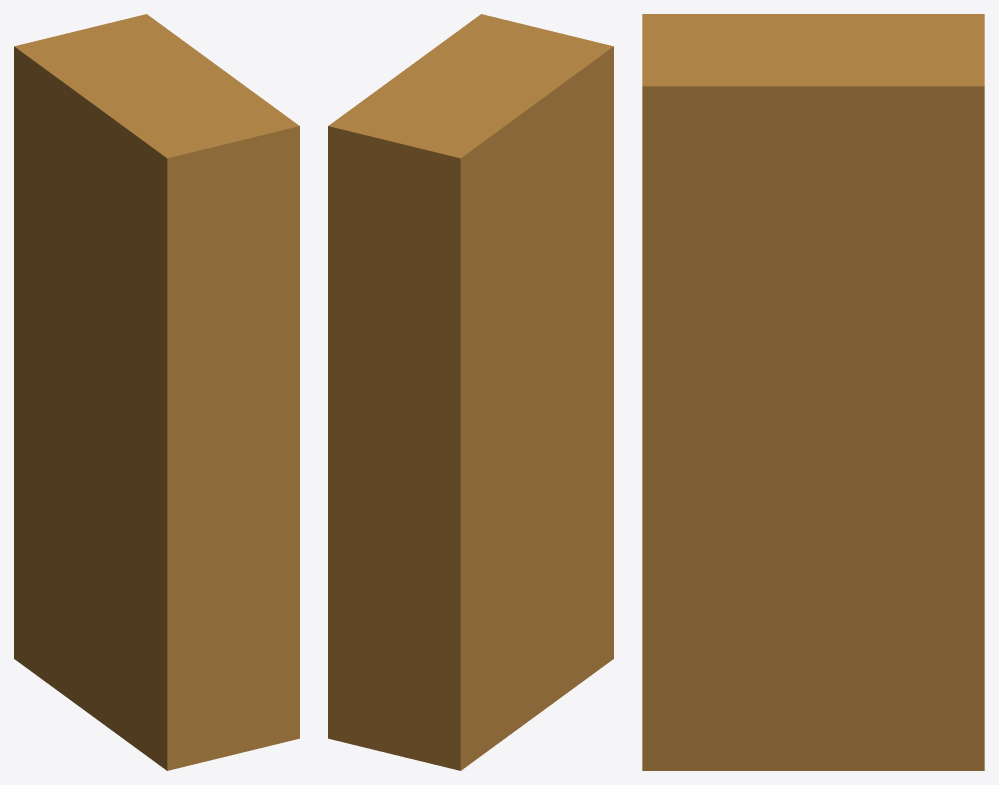
3 views of the same model, side by side, from view 1: azimuth 30°, elevation 25°; view 2: azimuth 150°, elevation 25°; view 3: azimuth 270°, elevation 25° (orthographic). The views are drawn at different scales.
Visible parts, largest first — view 1: L1-3-S5-330-M04; view 2: L1-3-S5-330-M04; view 3: L1-3-S5-330-M04.
Boxes of the visible parts, box(x1,y1,x2,y2) form: L1-3-S5-330-M04: box(14, 14, 299, 770); L1-3-S5-330-M04: box(328, 14, 613, 770); L1-3-S5-330-M04: box(642, 14, 984, 770).
Size of the model in its own units: 0.045 by 0.1987 by 0.09.
